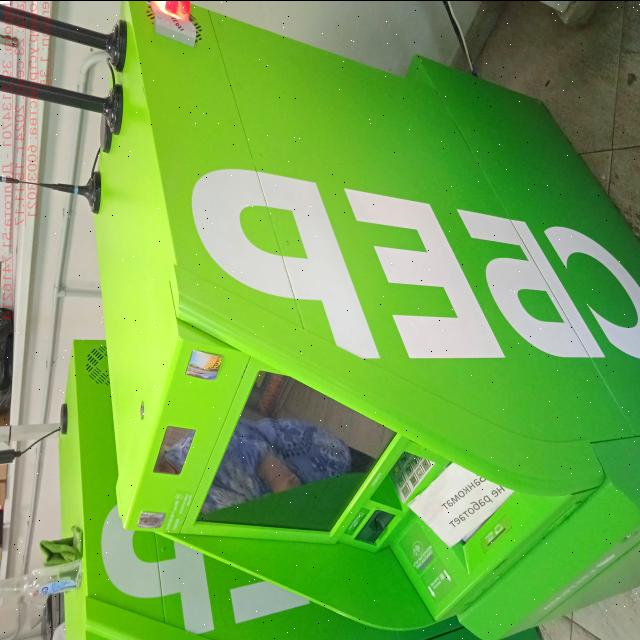bank: (93, 0, 640, 636), (59, 334, 532, 640)
